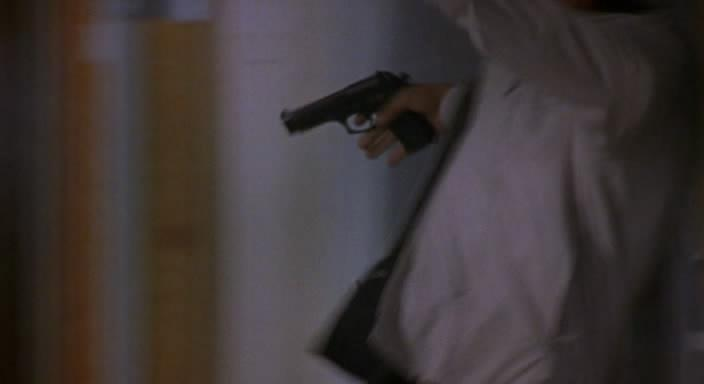gun: (267, 60, 445, 177)
